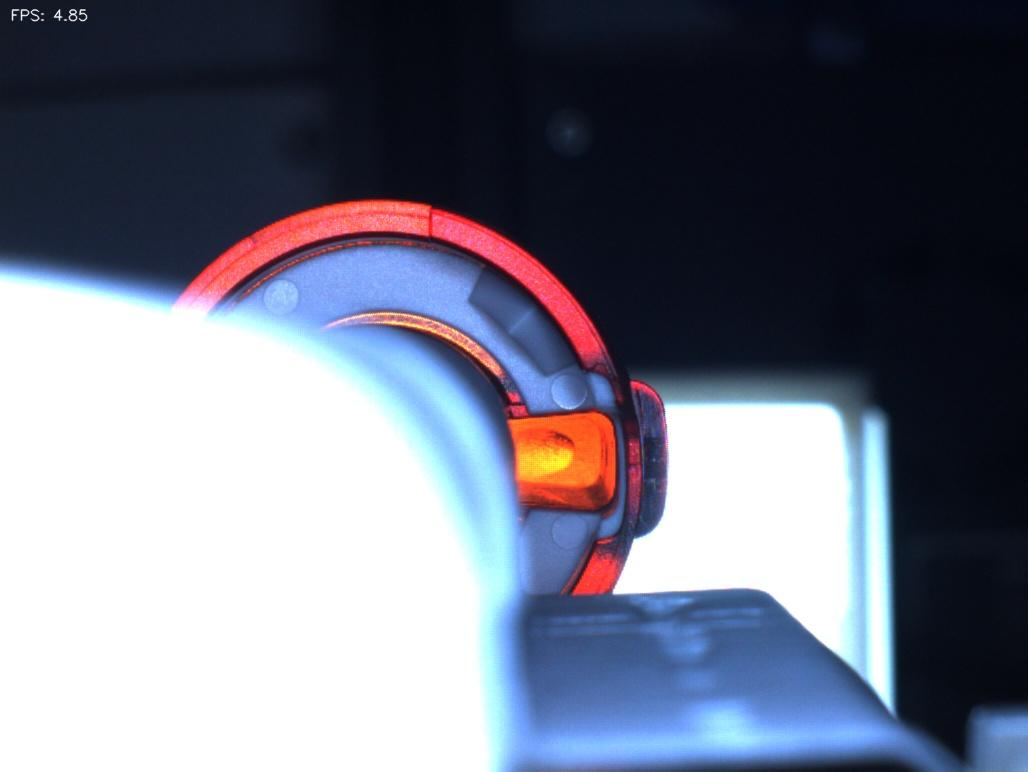Retassure: (502, 414, 583, 491)
